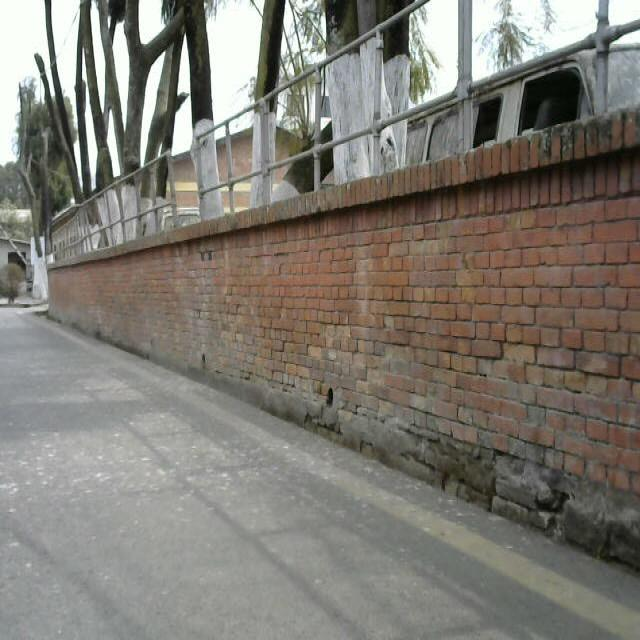Buildings: (48, 205, 640, 446)
Road: (3, 306, 639, 640)
trees: (37, 0, 640, 184)
